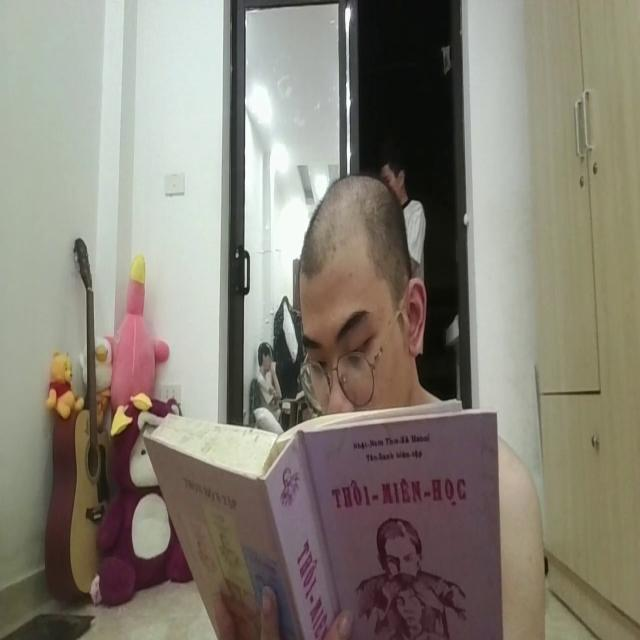book: (144, 399, 512, 640)
extra_person: (383, 143, 422, 270)
student: (292, 171, 433, 428)
